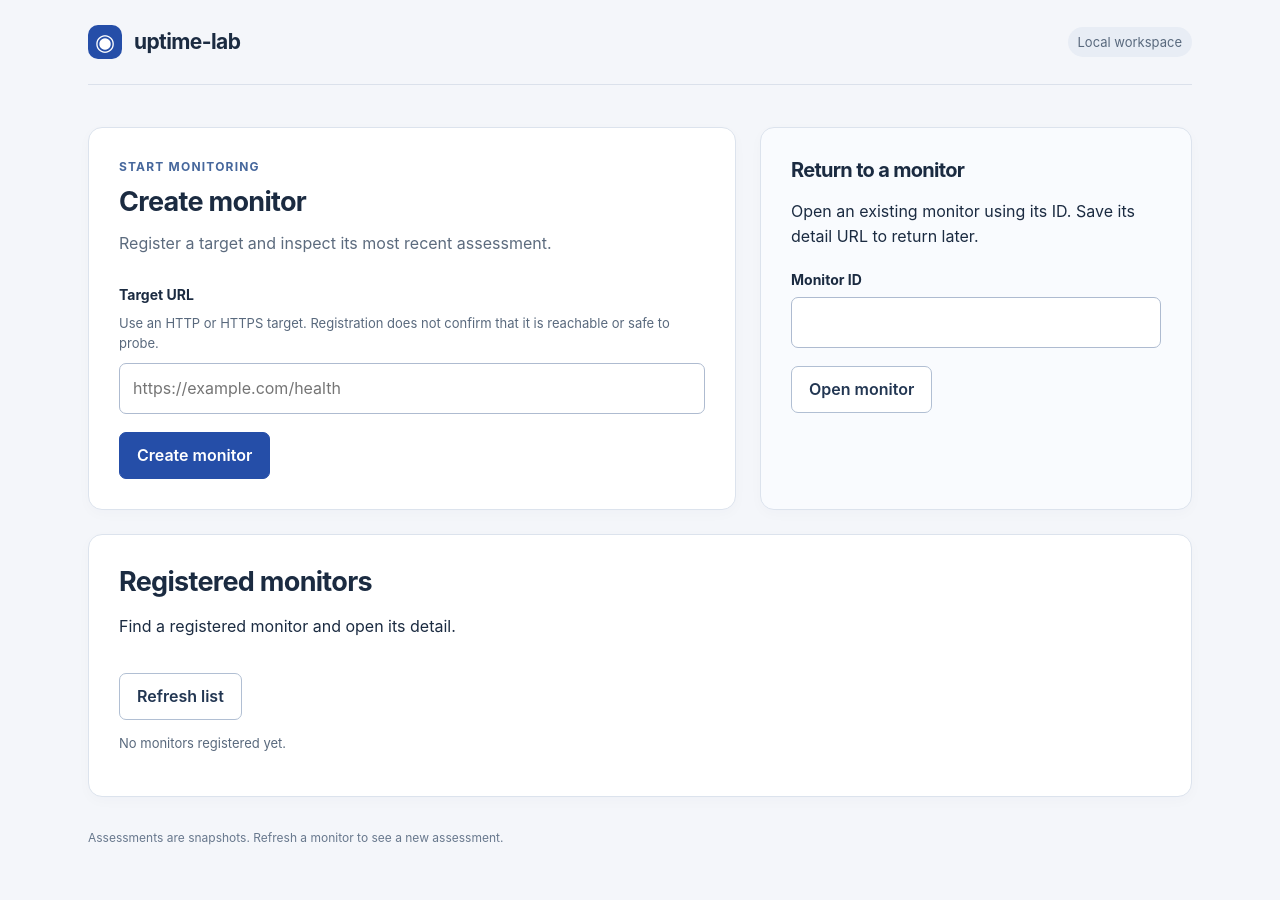
it: supports keyboard creation and detail navigation
Type "https://example.com/" into the field labelled "Target URL". click: (412, 388)
box: [119,363,705,414]
Then press Enter
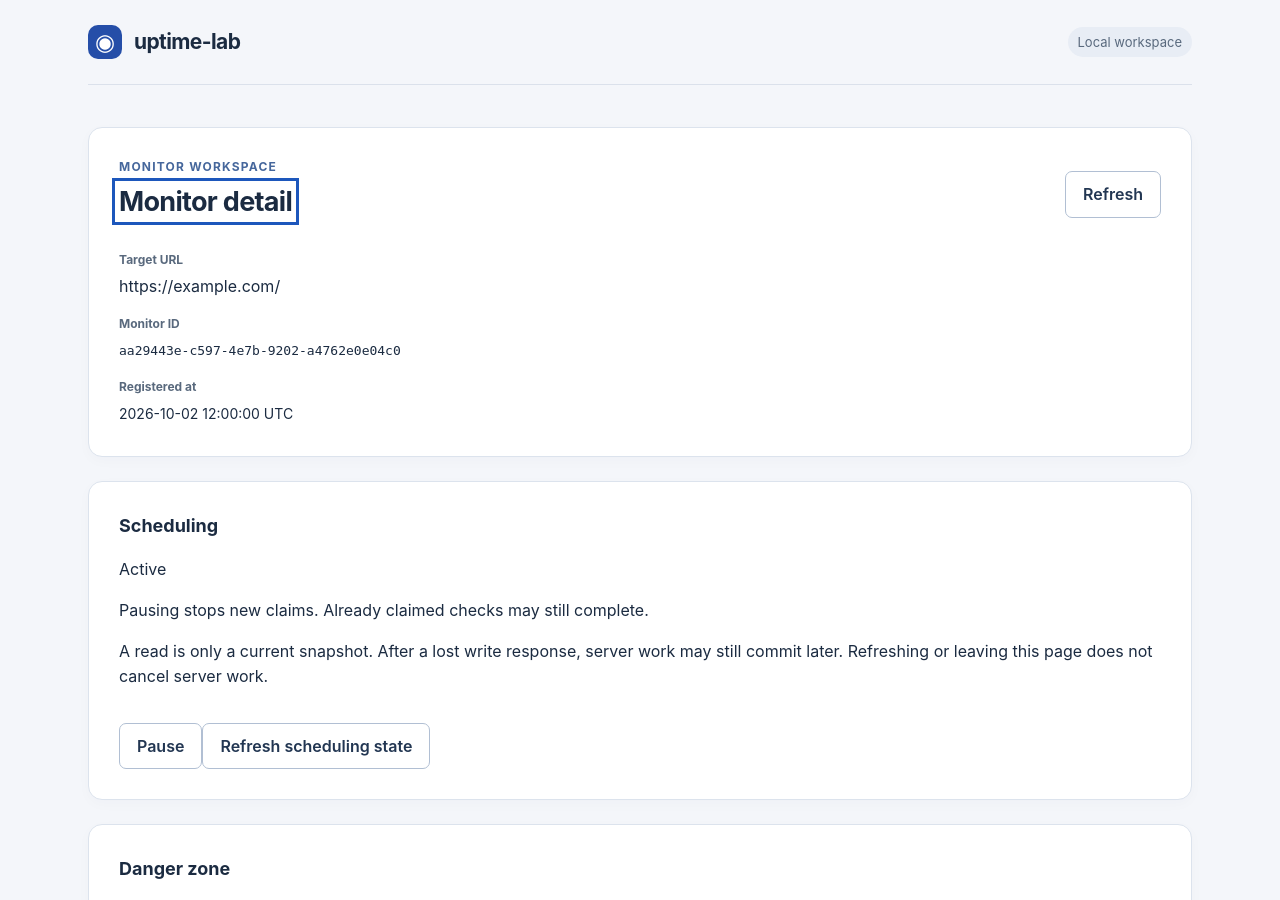
expect the heading "Monitor detail" is shown: met, box [119,185,292,218]
